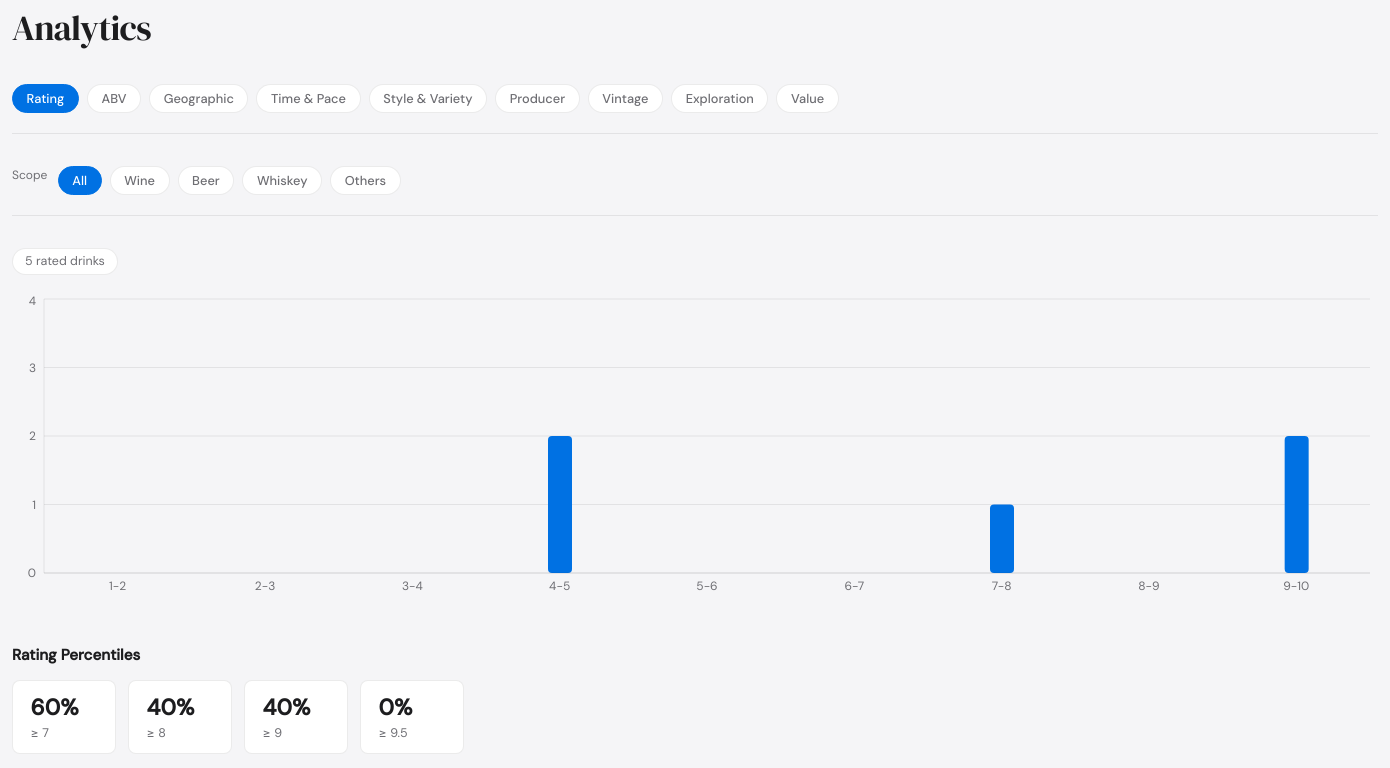
global category filter defaults to All and re-buckets the active section
Expected: the text "5 rated drinks" is shown, [12, 248, 118, 276]
Click the button "Wine" at coordinates (140, 180), box [110, 166, 170, 194]
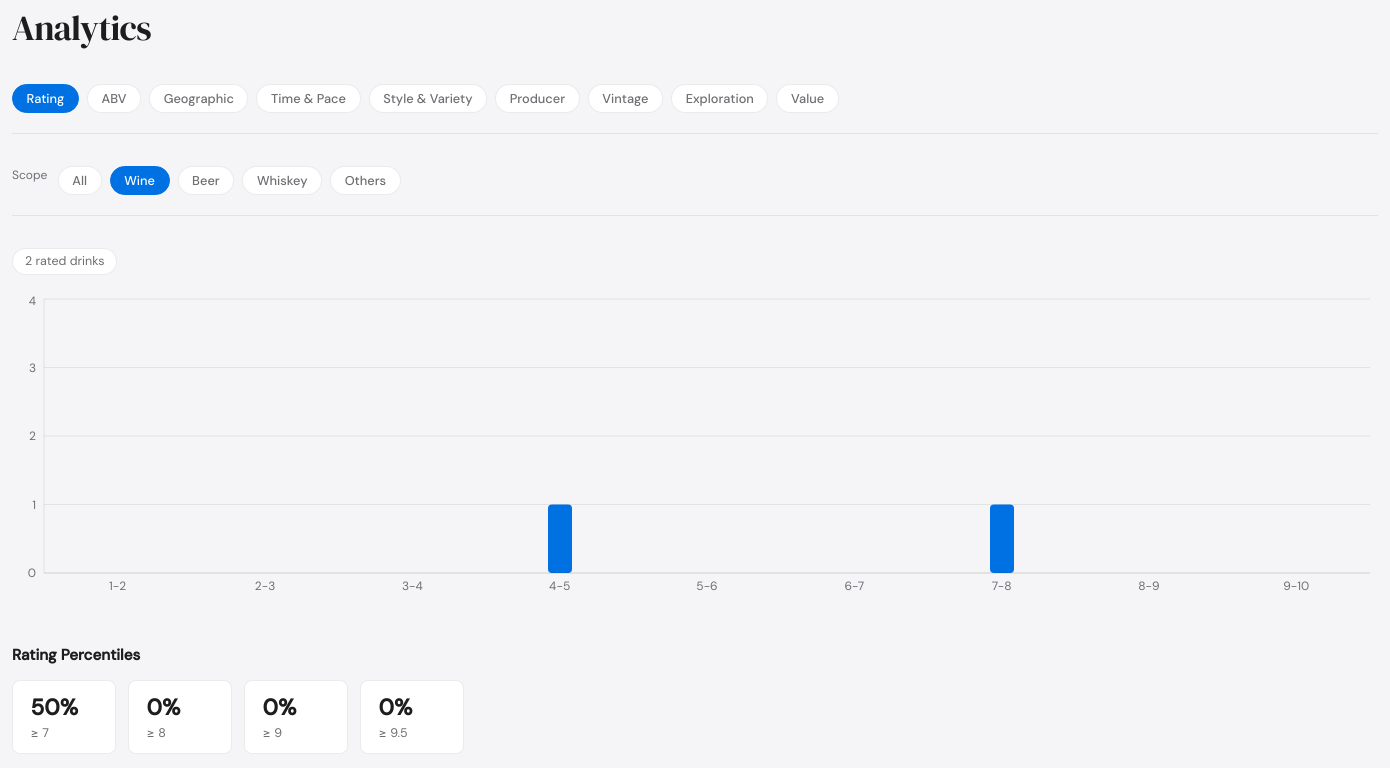
Expected: the text "2 rated drinks" is shown, [12, 248, 117, 276]
